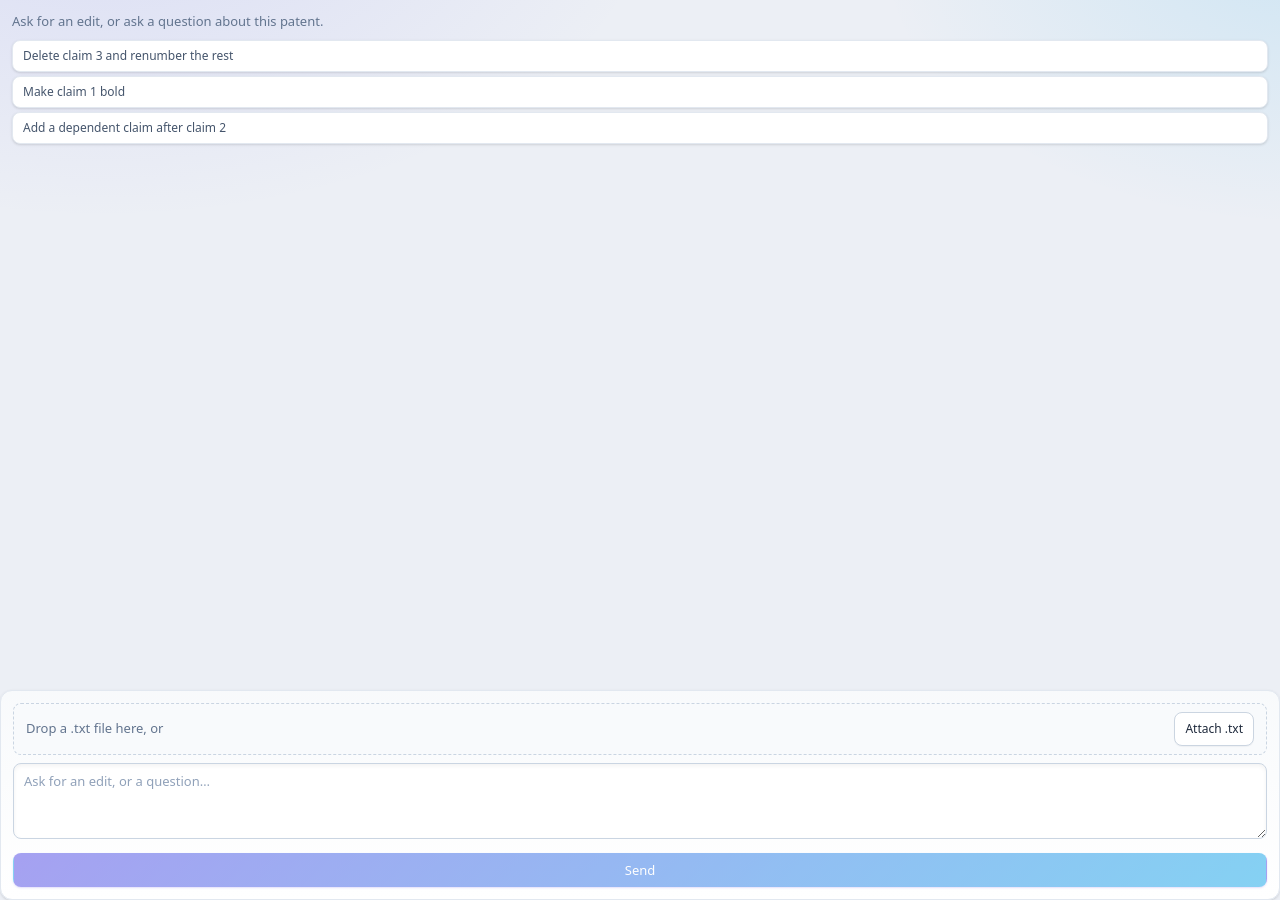
it: CP-07 a superseded version save says nothing › speaks when the save genuinely failed
Type "delete claim 3" into the text box named "Ask the AI" at {"x": 640, "y": 801}, box [13, 762, 1267, 839]
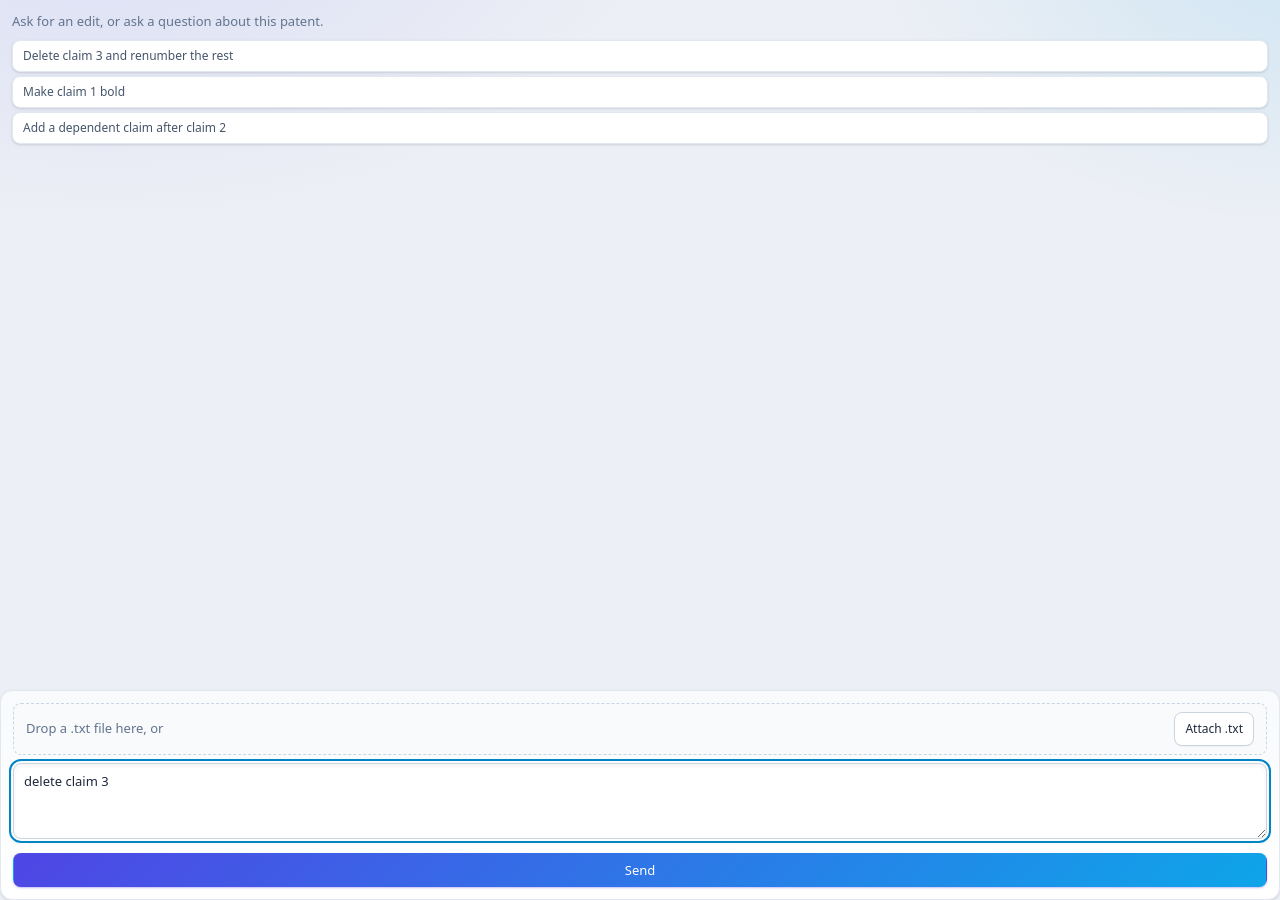
Click the button "Send" at {"x": 640, "y": 870}, box [13, 853, 1267, 887]
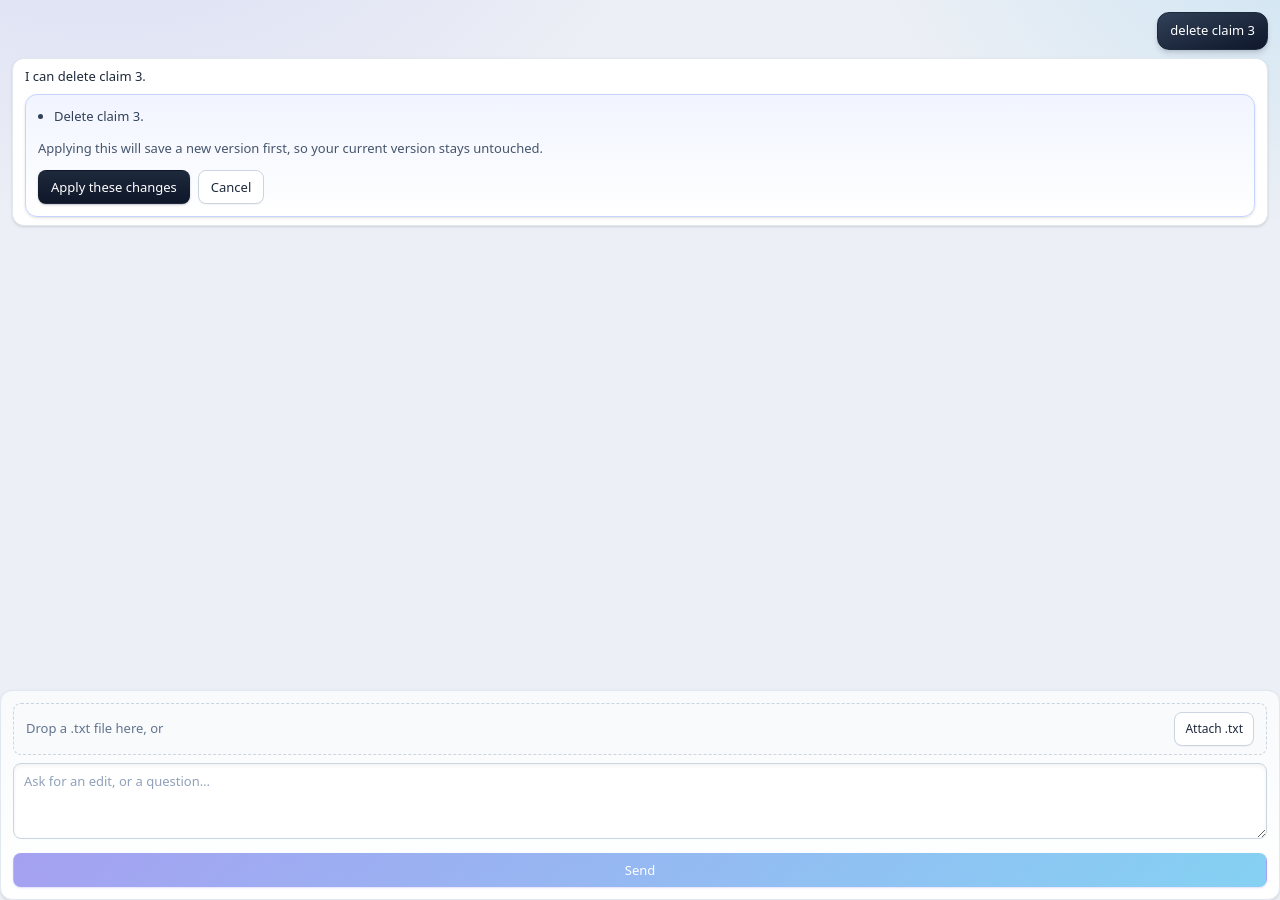
Expected: the button "Apply these changes" is shown
Click the button "Apply these changes" at {"x": 114, "y": 187}, box [38, 170, 190, 204]
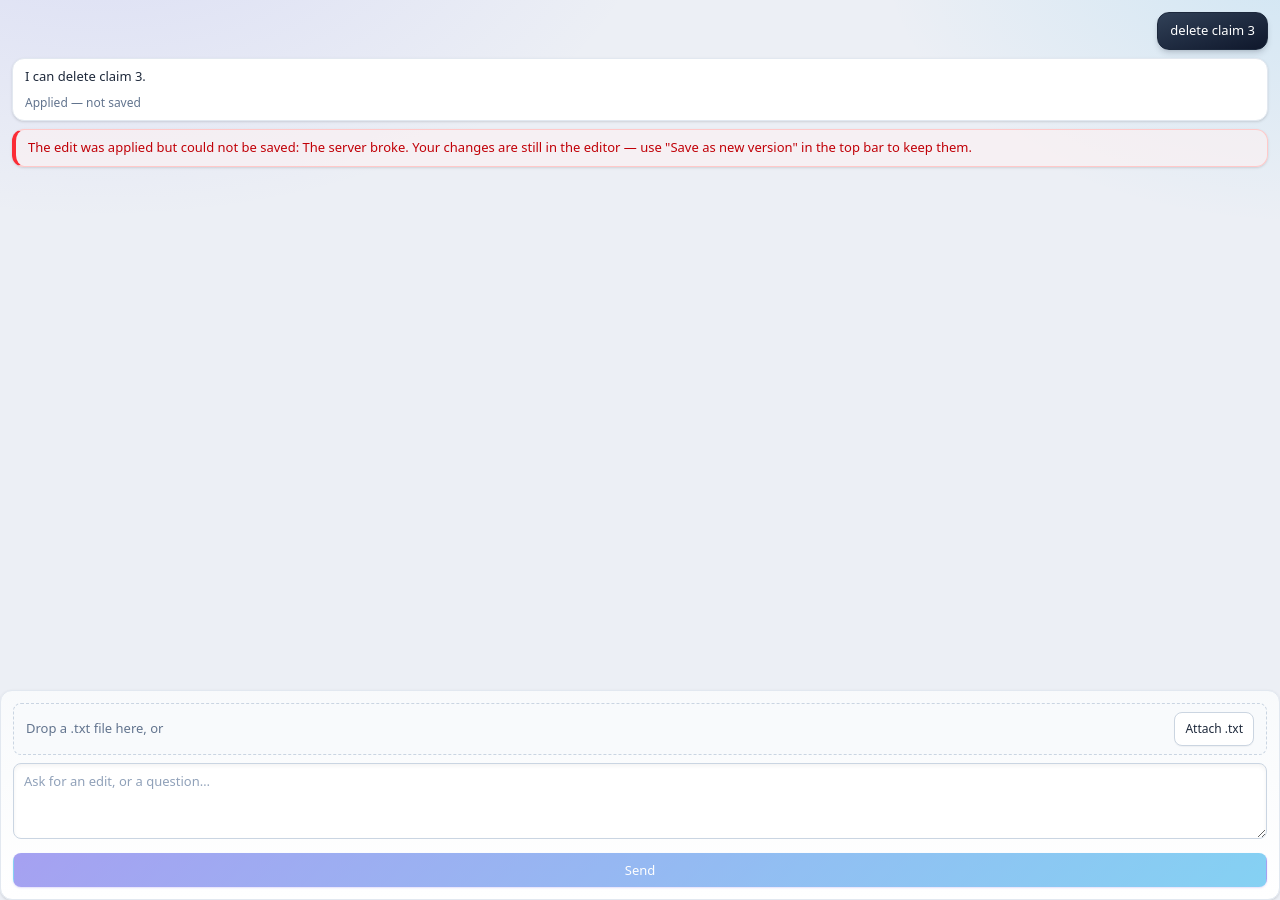
Expected: the text "The server broke." is shown, [28, 138, 972, 156]
Expected: the text "Applied — not saved" is shown, [25, 94, 141, 111]
